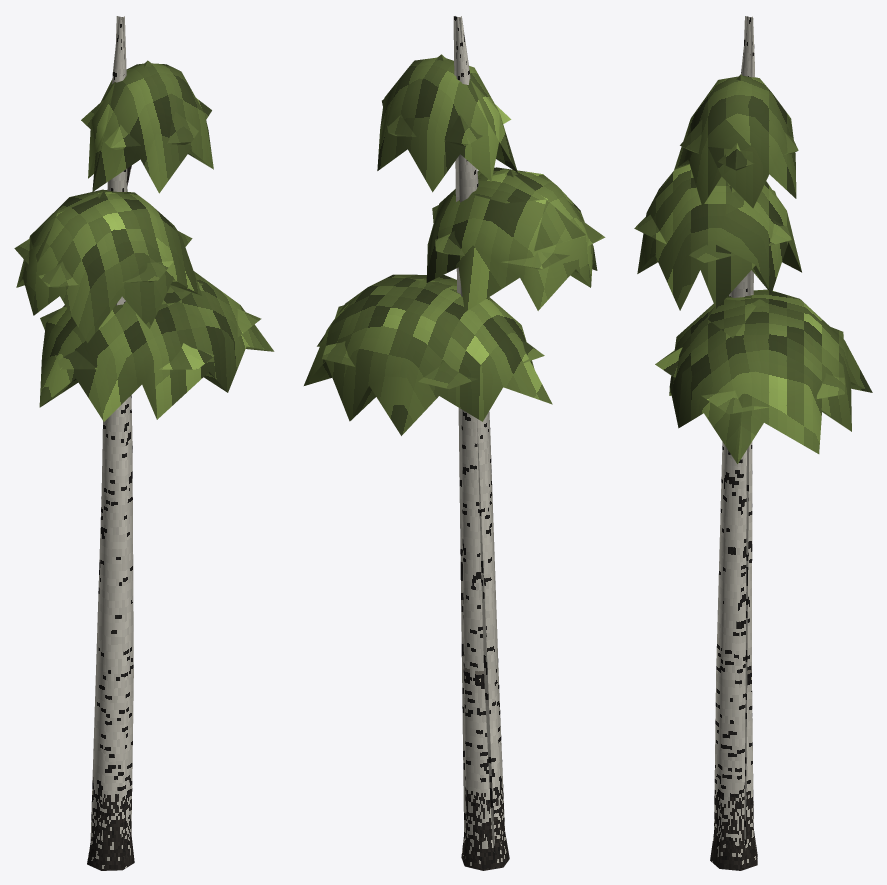
File: p_birch.glb
3 renders of one model, left to right at view 1: azimuth 30°, elevation 25°; view 2: azimuth 150°, elevation 25°; view 3: azimuth 270°, elevation 25°, orthographic. The views are drawn at different scales.
Parts seen in each view (by area): view 1: bc_tree, bc_far; view 2: bc_tree, bc_far; view 3: bc_tree, bc_far.
Boxes of the visible parts, box(x1,y1,x2,y2) form: bc_tree: box(16, 16, 274, 870); bc_far: box(14, 16, 261, 840); bc_tree: box(304, 16, 597, 870); bc_far: box(322, 16, 605, 852); bc_tree: box(637, 16, 872, 870); bc_far: box(634, 16, 844, 849).
Size of the model in its own units: 2.89 by 9 by 2.28.
Materials: 1 (1 with a texture image).
